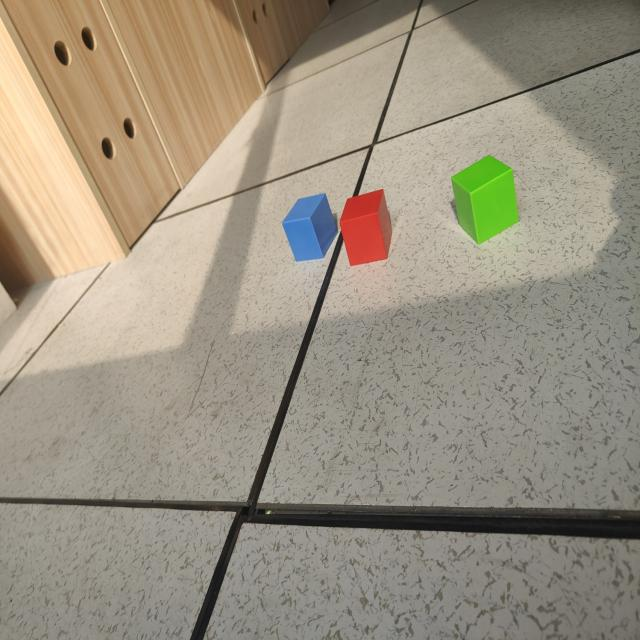blue: (279, 195, 339, 264)
green: (450, 157, 521, 246)
red: (338, 190, 393, 269)
